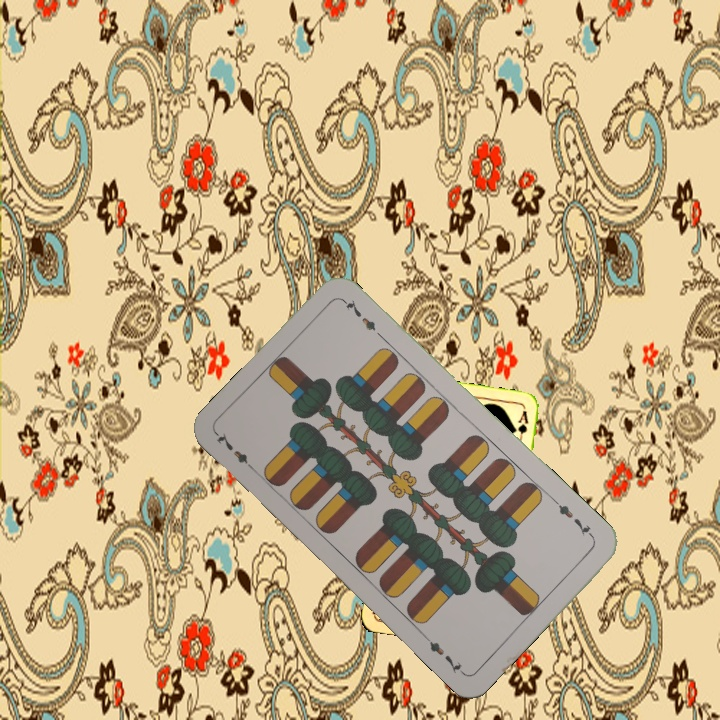E7: (212, 429, 259, 475), (550, 496, 597, 541)
